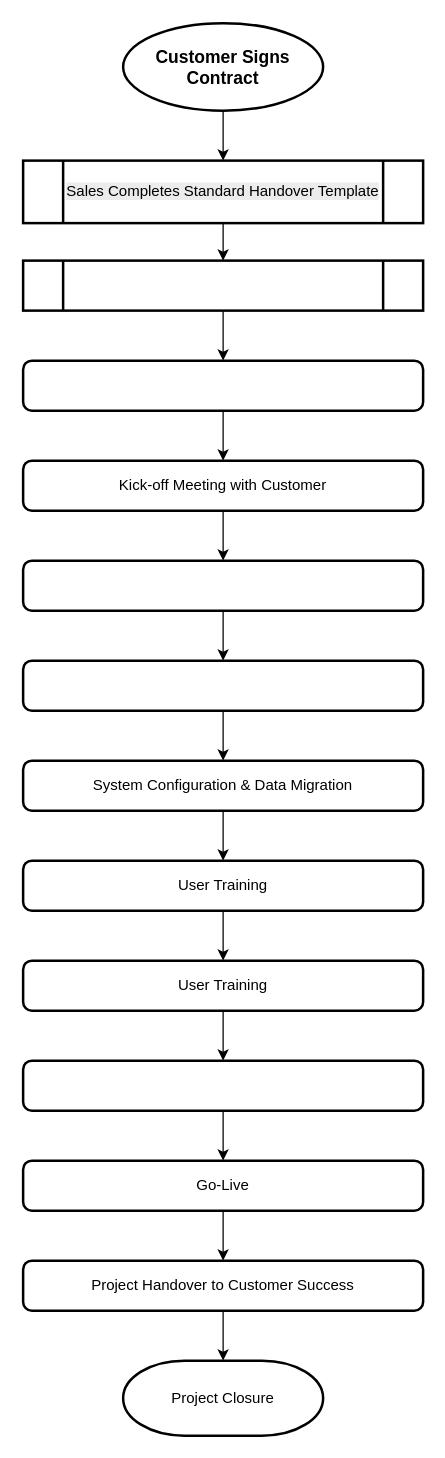
This 445x1458 diagram has some shape labels left out. Here are the shapes that lost their labels. From the top down, the centre of each, then its label:
At point 222,285: "Operations Reviews Handover Information".
At point 222,385: "Implementation Manager Assigned".
At point 222,585: "Technical Readiness Assessment".
At point 222,685: "Implementation Checklist".
At point 222,1085: "Go-Live Approval".
